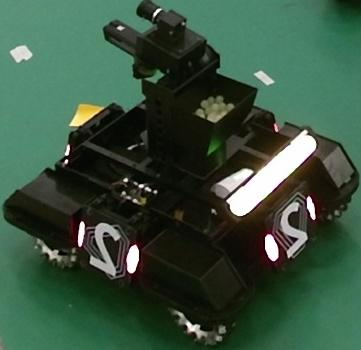armor_2: (264, 199, 317, 260), (79, 222, 140, 274)
light: (227, 128, 317, 217)
